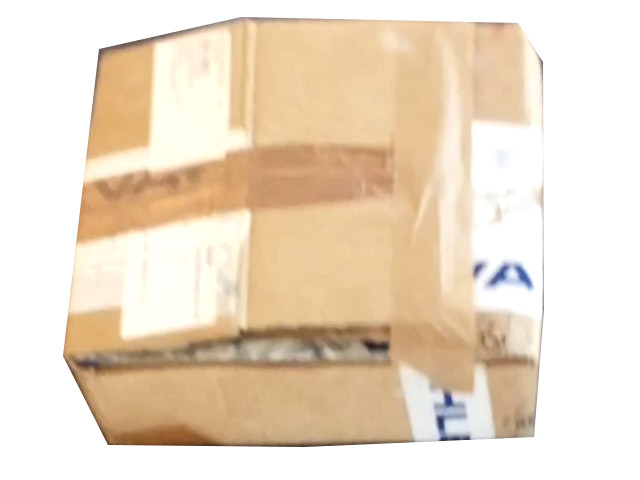cardboard: (65, 18, 547, 441)
